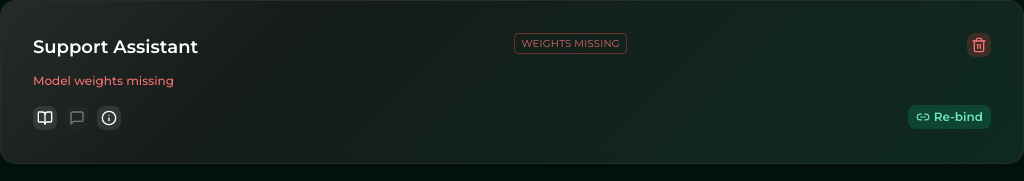
ModelCard orphaned assistant (#225/#208) › explains when no installed base model is available to re-bind to
Click the button titled "Re-bind to another installed model": (949, 117) [908, 105, 991, 129]
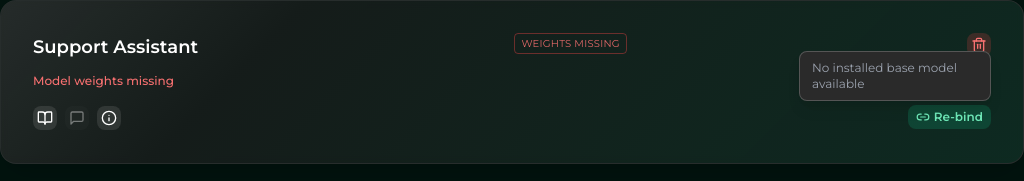
Check: the text "No installed base model available" is shown, box [812, 60, 957, 91]
